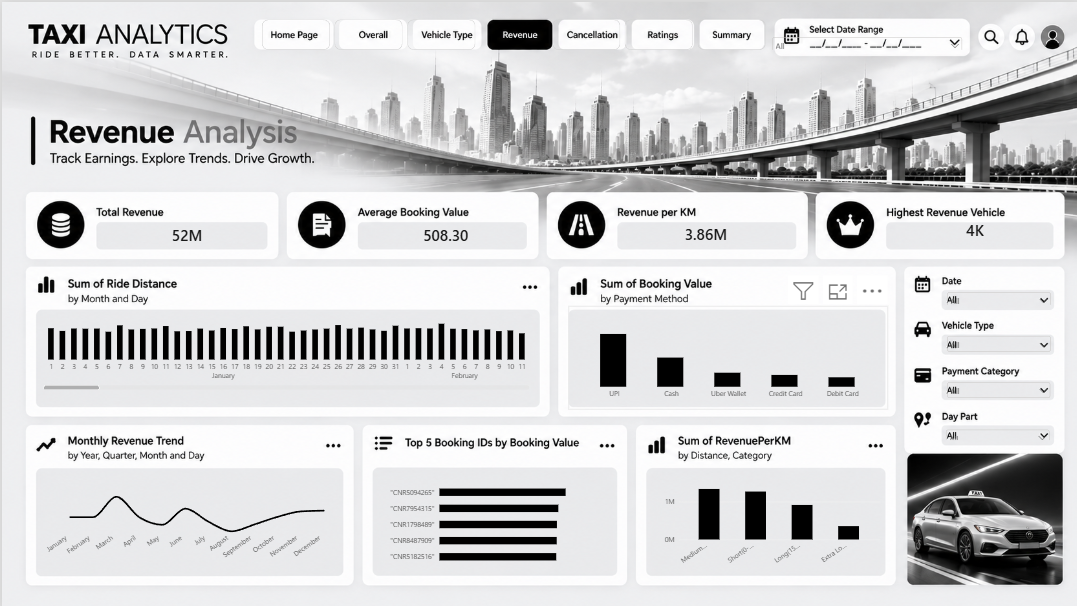

The page's visual inventory and layout, read from the dashboard file:
{"tool":"powerbi","page":{"name":"Revenue","canvas":[1920,1080],"ordinal":3},"visuals":[{"type":"pageNavigator","box":[463.3,30.8,901.2,54.3],"z":0},{"type":"slicer","fields":{"Values":["rideBookings.Date"]},"box":[1364.5,57.9,347.5,27.1],"z":1000},{"type":"slicer","fields":{"Values":["rideBookings.Date"]},"box":[1675.7,512.1,193.6,27.1],"z":2000},{"type":"slicer","fields":{"Values":["rideBookings.Vehicle Type"]},"box":[1675.7,589.9,193.6,36.2],"z":3000},{"type":"slicer","fields":{"Values":["rideBookings.Payment Category"]},"box":[1674.9,670.2,193.3,36.7],"z":4000},{"type":"slicer","fields":{"Values":["rideBookings.Day_part"]},"box":[1673.9,756.4,193.6,23.5],"z":5000},{"type":"cardVisual","fields":{"Data":["Sum(rideBookings.Booking Value)"]},"box":[171.9,383.6,316.7,57.9],"z":6000},{"type":"cardVisual","fields":{"Data":["Avg(rideBookings.Booking Value)"]},"box":[640.6,383.6,298.6,57.9],"z":7000},{"type":"cardVisual","fields":{"Data":["Sum(rideBookings.RevenuePerKM)"]},"box":[1089.4,390.9,325.7,43.4],"z":8000},{"type":"cardVisual","fields":{"Data":["Max(rideBookings.Booking Value)"]},"box":[1634.1,376.4,193.6,57.9],"z":9000},{"type":"columnChart","fields":{"Category":["rideBookings.Date.Variation.Date Hierarchy.Month","rideBookings.Date.Variation.Date Hierarchy.Day"],"Y":["Sum(rideBookings.Ride Distance)"]},"box":[57.9,533.8,895.8,171.9],"z":10000},{"type":"columnChart","fields":{"Category":["rideBookings.Payment Method"],"Y":["Sum(rideBookings.Booking Value)"]},"box":[1006.2,539.3,570,184.6],"z":11000},{"type":"lineChart","fields":{"Category":["rideBookings.Date.Variation.Date Hierarchy.Month"],"Y":["rideBookings.Monthly_Revenue"]},"box":[57.9,830.6,546.5,190],"z":12000},{"type":"columnChart","fields":{"Category":["rideBookings.Distance_Category"],"Y":["Sum(rideBookings.RevenuePerKM)"]},"box":[1143.7,830.6,432.5,190],"z":13000},{"type":"barChart","fields":{"Category":["rideBookings.Booking ID"],"Y":["Sum(rideBookings.Booking Value)"]},"box":[666,830.6,423.5,190],"z":14000}]}

Visuals, with their boxes in screenshot pixels (x1, y1, x2, y2), scaled from the page's 1920x1080 canvas onto the 1077x606 screenshot:
pageNavigator: 260/17/765/48
slicer - rideBookings.Date: 765/32/960/48
slicer - rideBookings.Date: 940/287/1049/303
slicer - rideBookings.Vehicle Type: 940/331/1049/351
slicer - rideBookings.Payment Category: 940/376/1048/397
slicer - rideBookings.Day_part: 939/424/1048/438
cardVisual - Sum(rideBookings.Booking Value): 96/215/274/248
cardVisual - Avg(rideBookings.Booking Value): 359/215/527/248
cardVisual - Sum(rideBookings.RevenuePerKM): 611/219/794/244
cardVisual - Max(rideBookings.Booking Value): 917/211/1025/244
columnChart - rideBookings.Date.Variation.Date Hierarchy.Month x rideBookings.Date.Variation.Date Hierarchy.Day: 32/300/535/396
columnChart - rideBookings.Payment Method x Sum(rideBookings.Booking Value): 564/303/884/406
lineChart - rideBookings.Date.Variation.Date Hierarchy.Month x rideBookings.Monthly_Revenue: 32/466/339/573
columnChart - rideBookings.Distance_Category x Sum(rideBookings.RevenuePerKM): 642/466/884/573
barChart - rideBookings.Booking ID x Sum(rideBookings.Booking Value): 374/466/611/573
